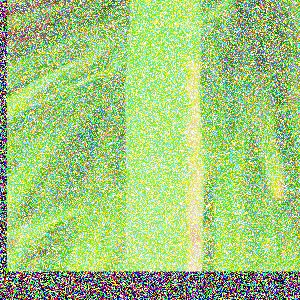Leaf_Blast: (121, 0, 207, 271)
